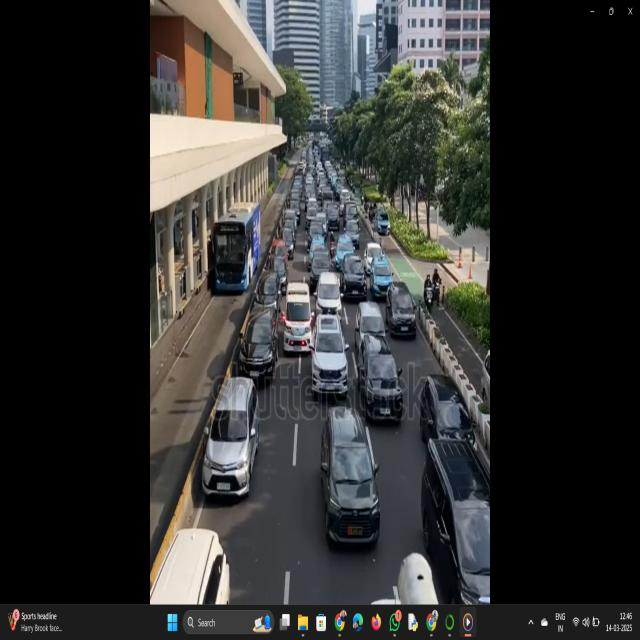Ambulance: (283, 283, 315, 354)
